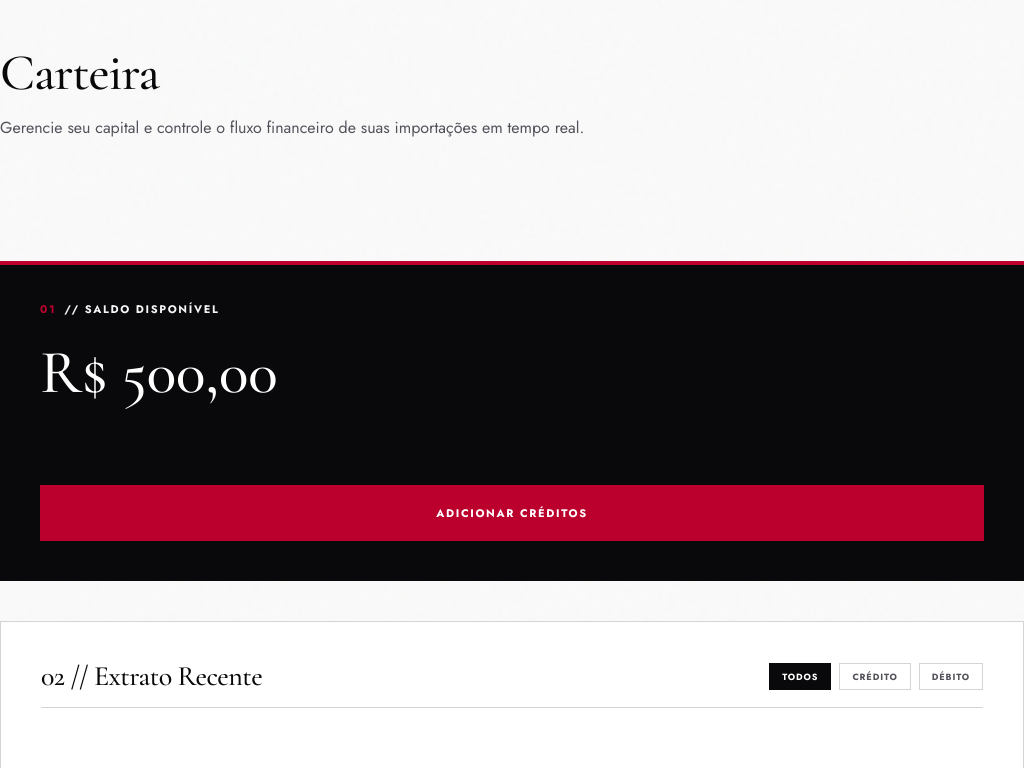
Scenario: WalletDashboard › deve filtrar transações por tipo
// Clica em Crédito (Exato para o botão de filtro)
Click the button "CRÉDITO": (875, 676) [839, 663, 911, 690]
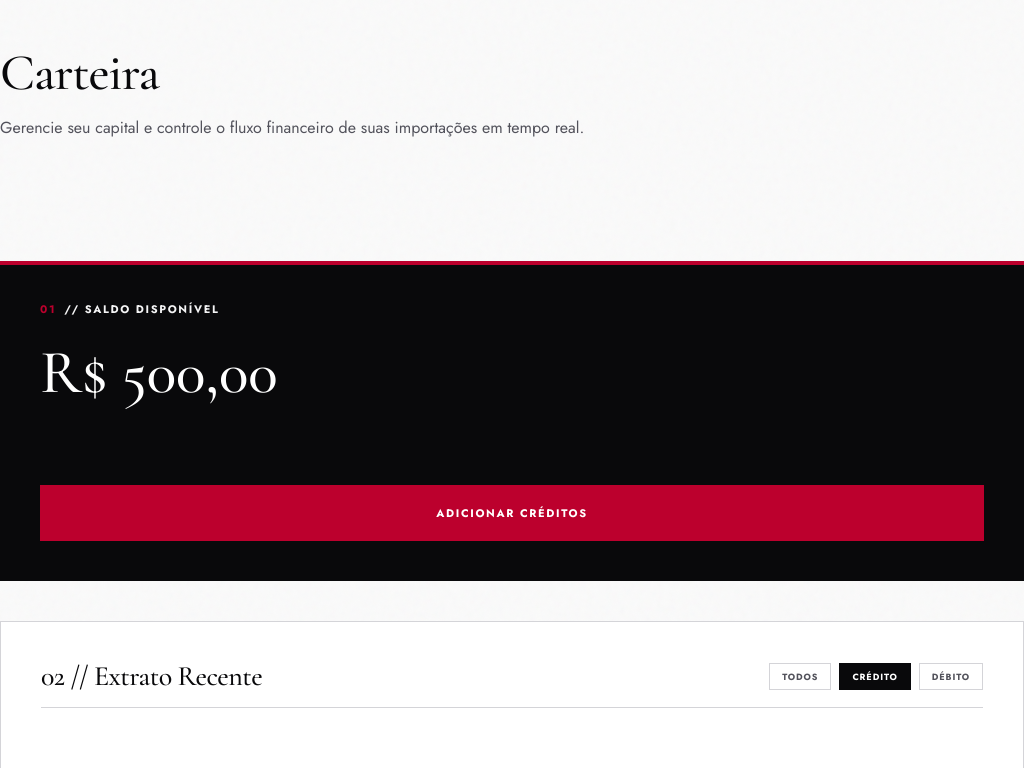
// Clica em Débito (Exato)
Click the button "DÉBITO": (951, 676) [919, 663, 983, 690]
(page scrolled)
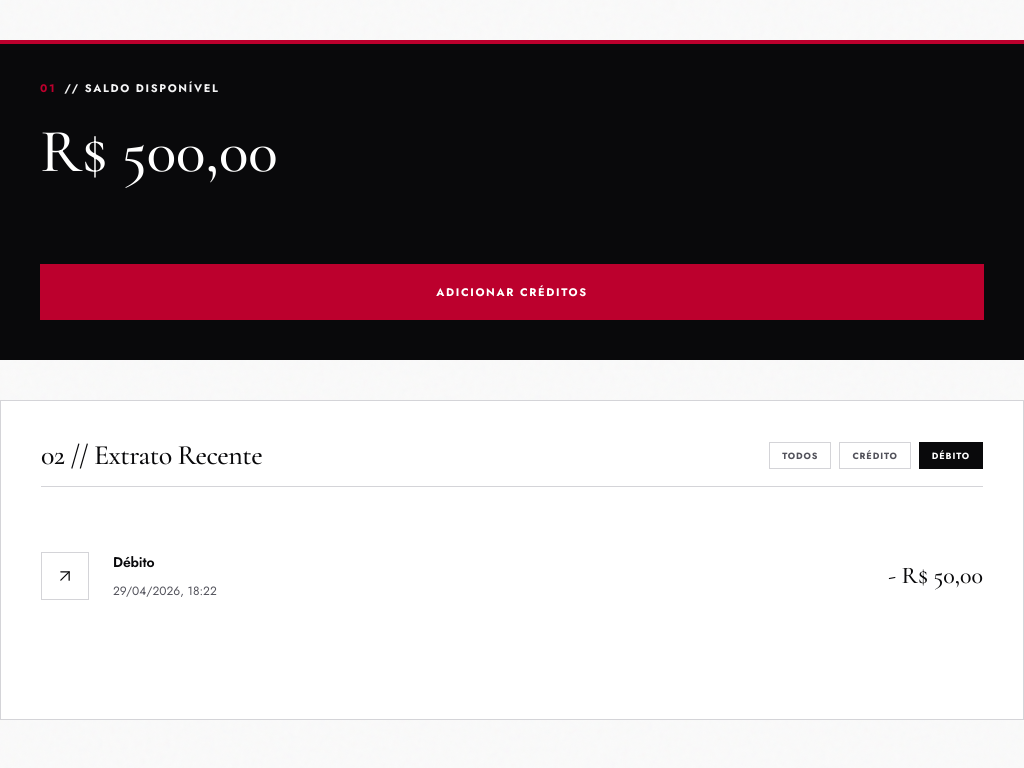
Check: the text "Débito" is shown, box [113, 552, 154, 572]
